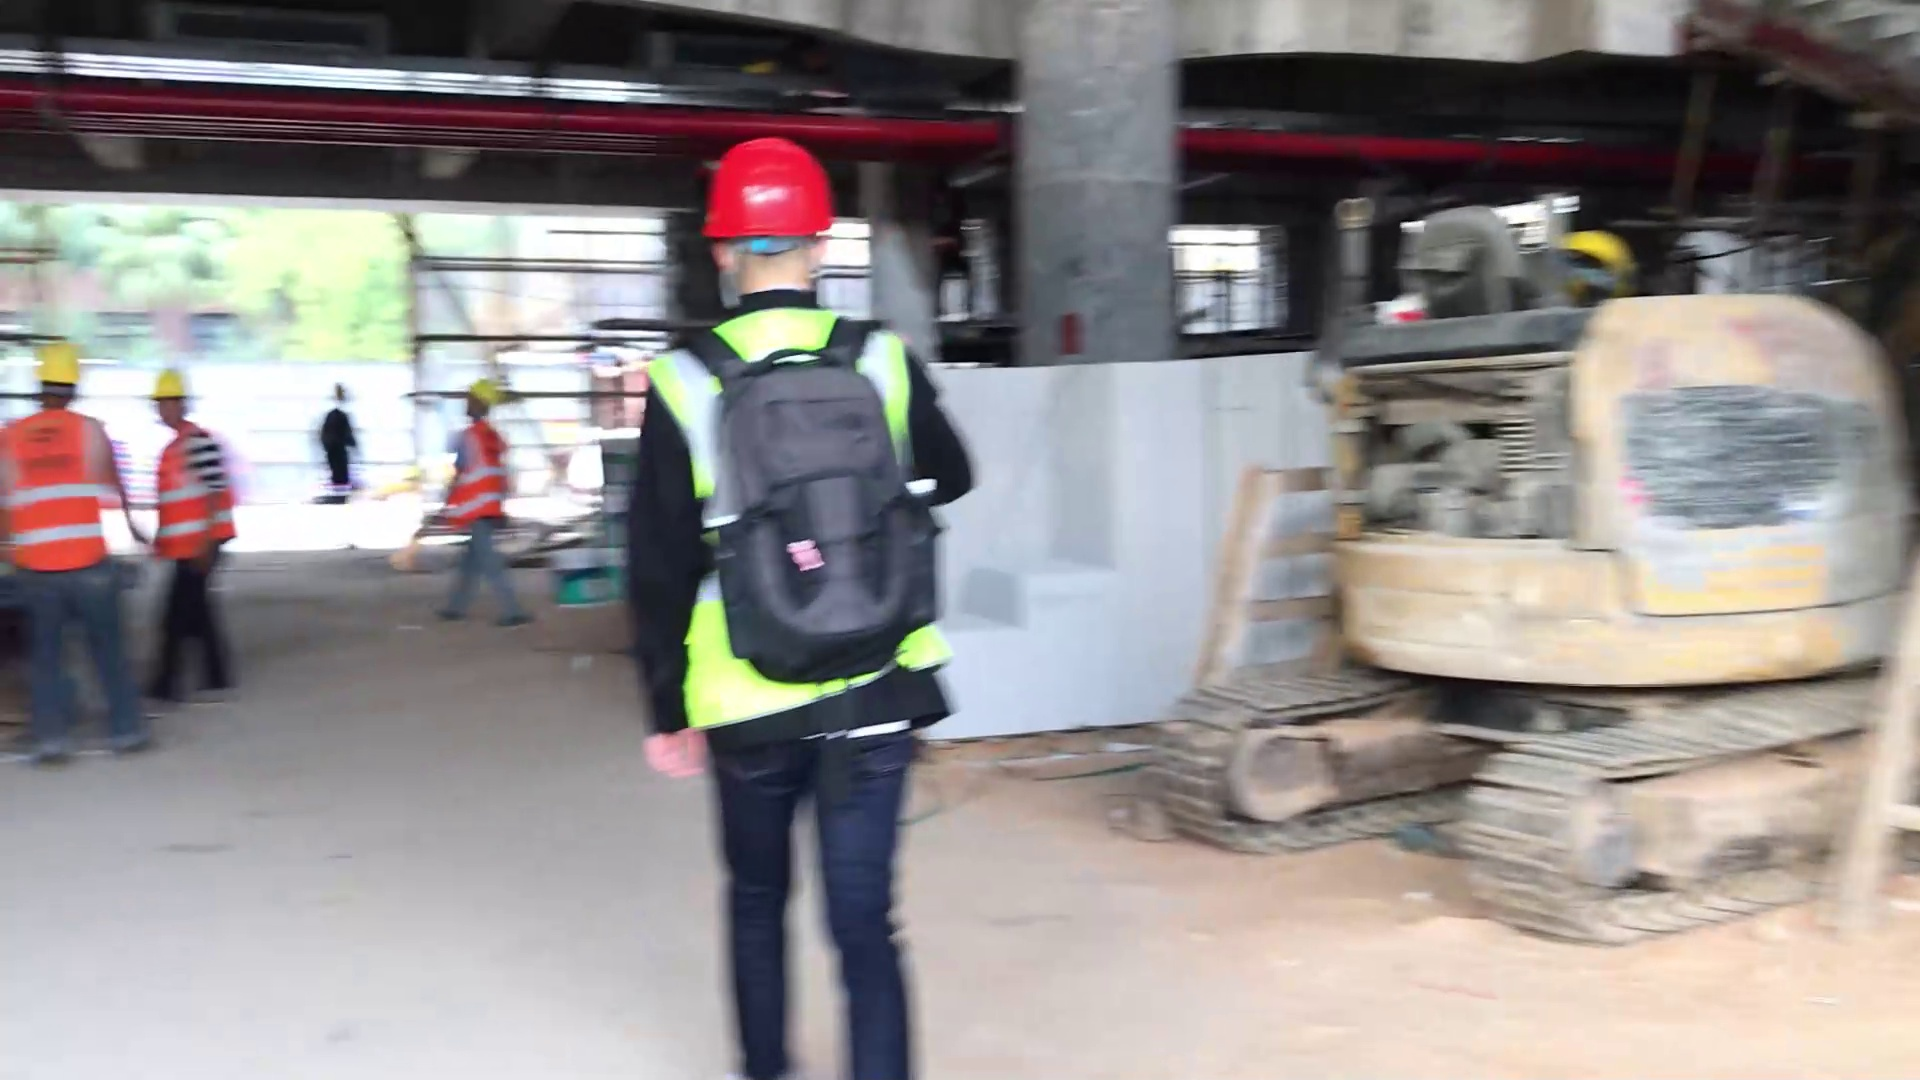helmet: (697, 127, 854, 253), (33, 334, 84, 395), (148, 360, 197, 408), (464, 364, 506, 415)
person: (618, 112, 1040, 1080), (7, 334, 166, 763), (130, 348, 277, 708), (418, 367, 544, 637)
vest: (640, 306, 955, 732), (8, 411, 118, 576), (149, 430, 251, 564), (437, 422, 525, 534)
